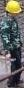hard-hat: (5, 0, 22, 13)
